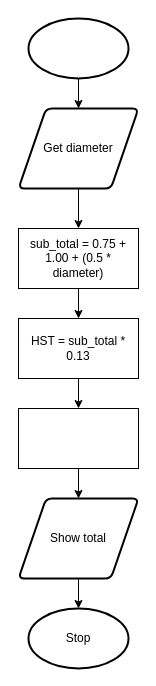
This 156x686 diagram has some shape labels left out. Each missing label, with the centre of its shape:
"Start" belongs at (78,48).
"total = sub_total + HST" belongs at (78,438).
